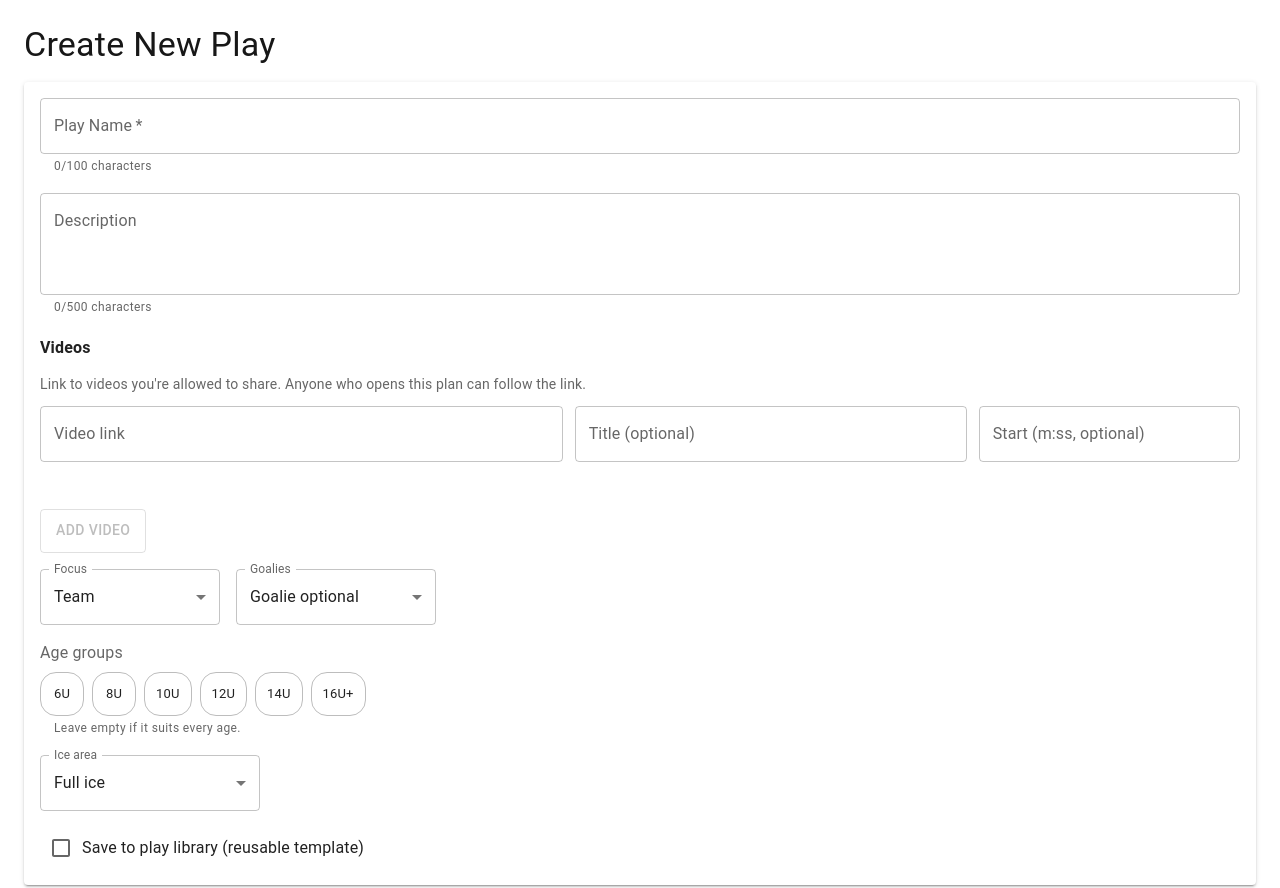
it: PlayEditor › Save Functionality › shows error message when save fails
Note: Fill in form
Type "Test Play" into the field labelled "Play Name *" at (640, 126), box [40,98,1240,154]
(page scrolled)
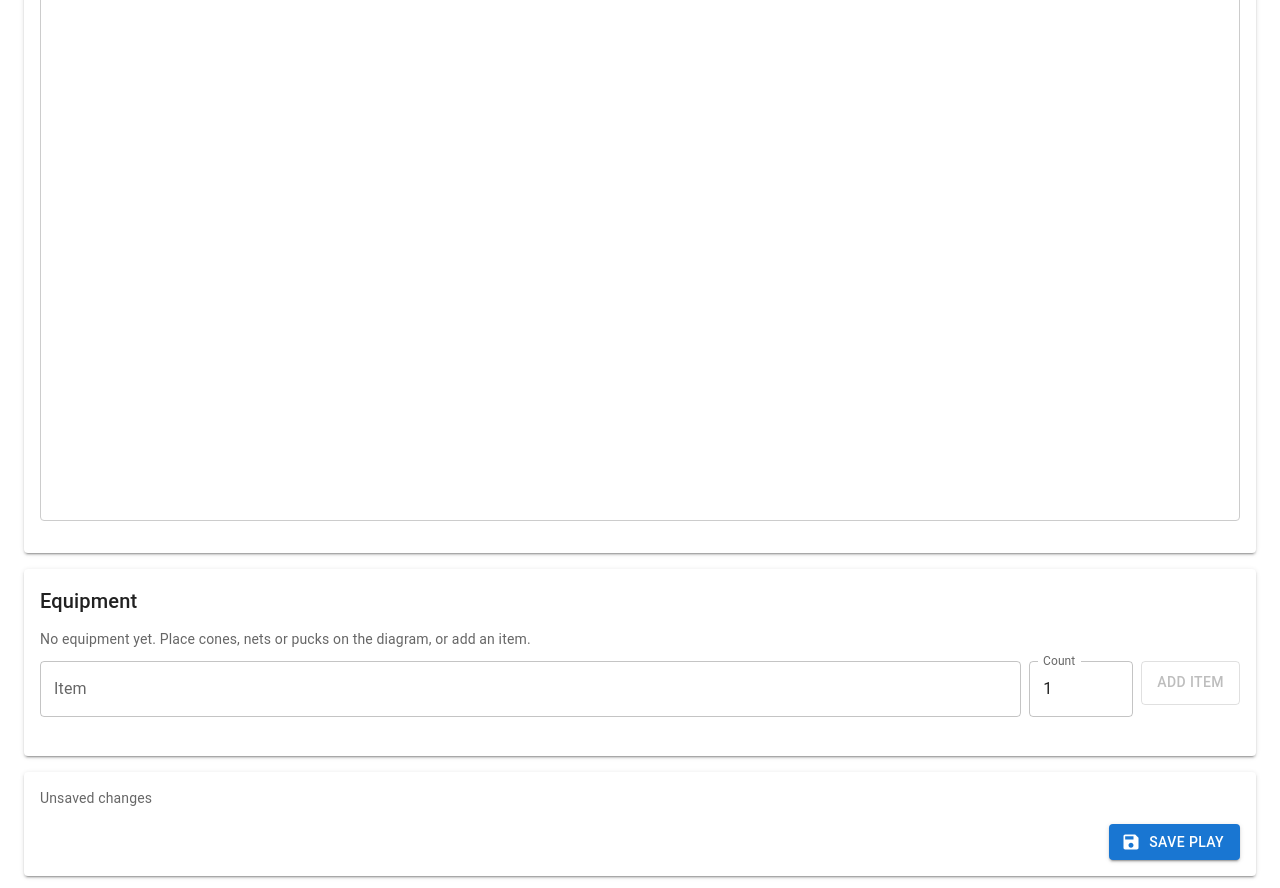
Note: Click save
Click the button "Save Play" at (1175, 842), box [1109,824,1240,860]
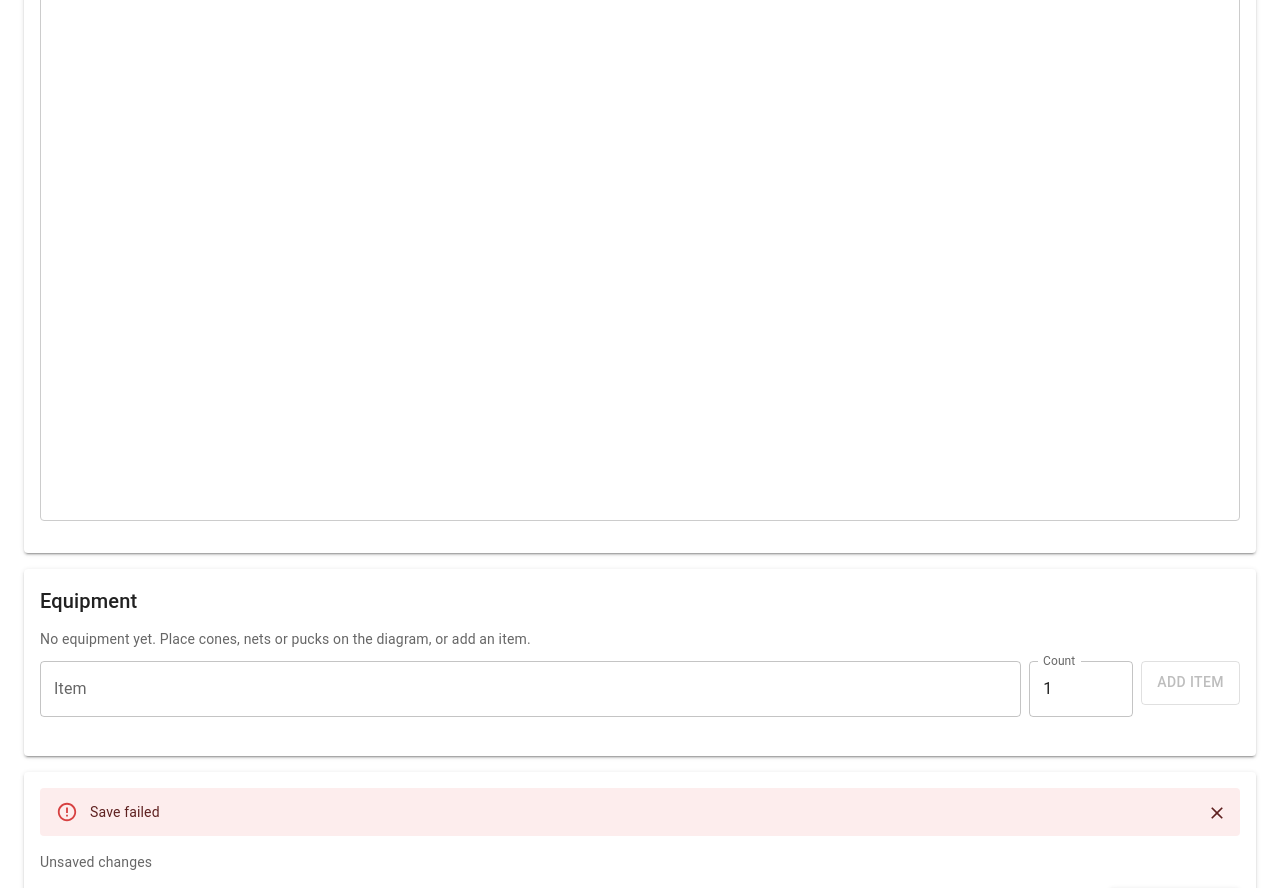
Now the text "Save failed" is shown, box [90,804,160,820]
